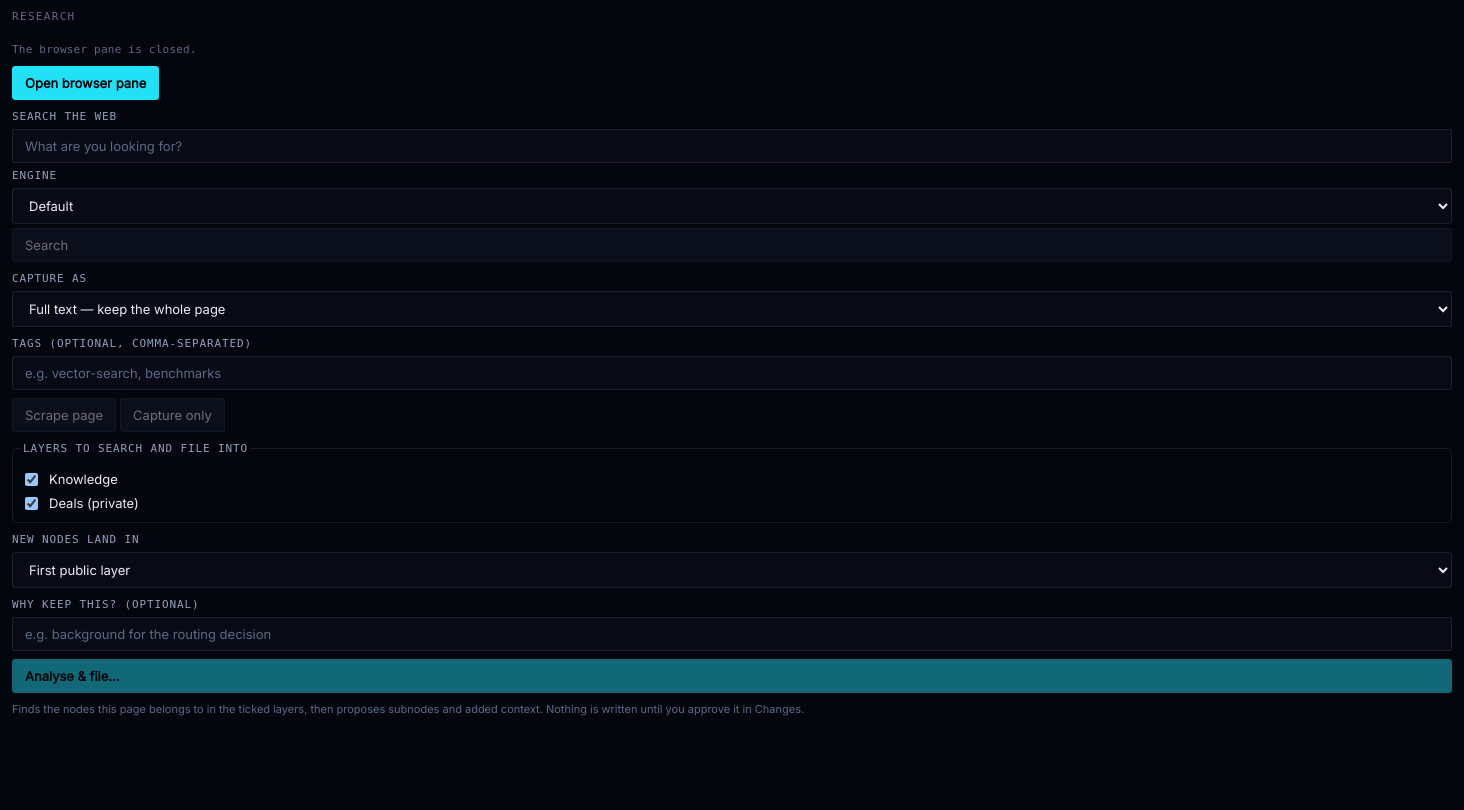
Test: BrowserPanel › digests the page instead of saving it whole when asked
Expected: the text "The browser pane is closed." is shown, [12,43,197,56]
Click the button "Open browser pane". click: (86, 83)
box: [12,66,159,100]
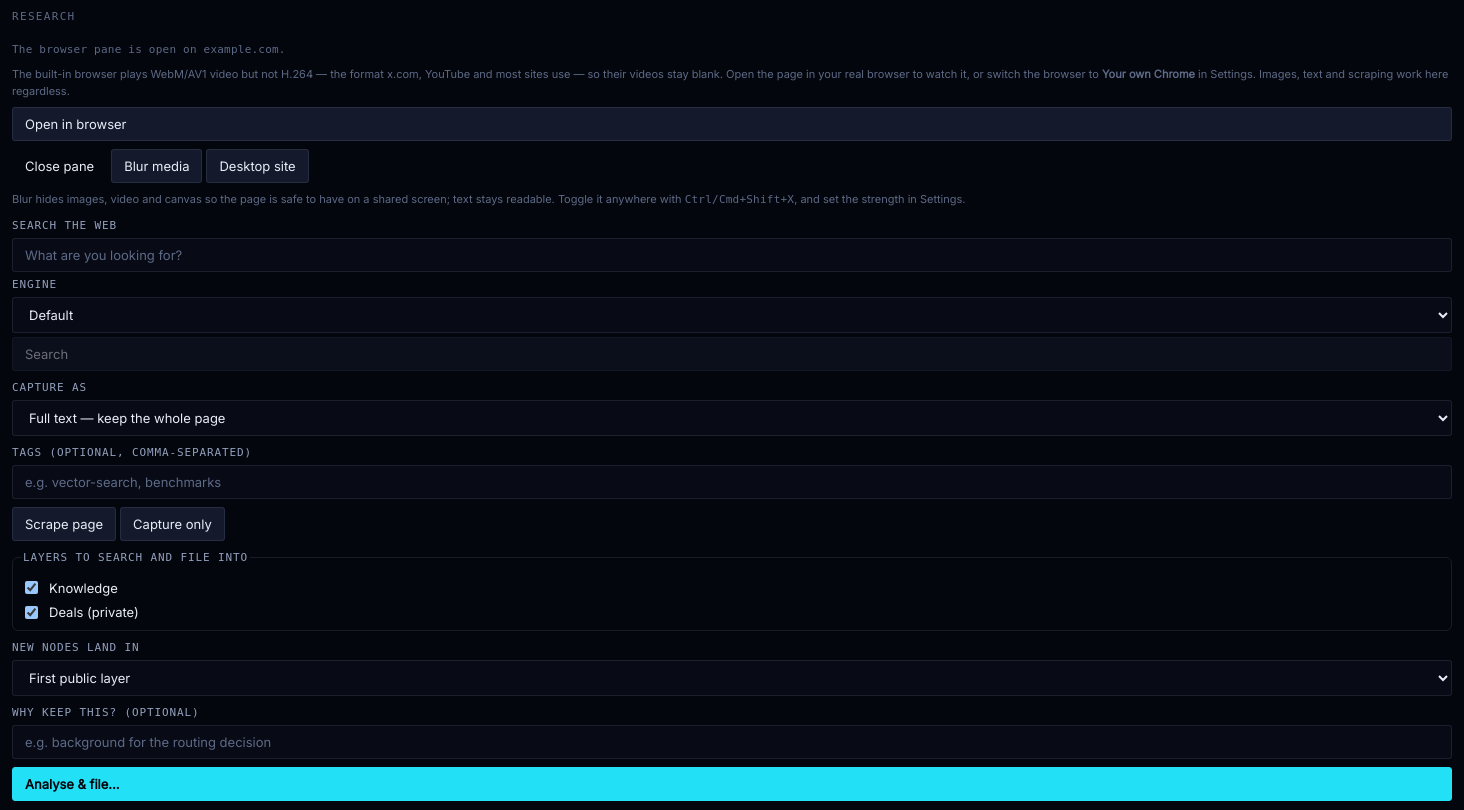
// Pick a brief, add a focus and tags — the "manage and sort" controls.
Select "Brief — AI summary + key points" in the dropdown named "Capture mode". click: (732, 418)
box: [12,400,1452,436]
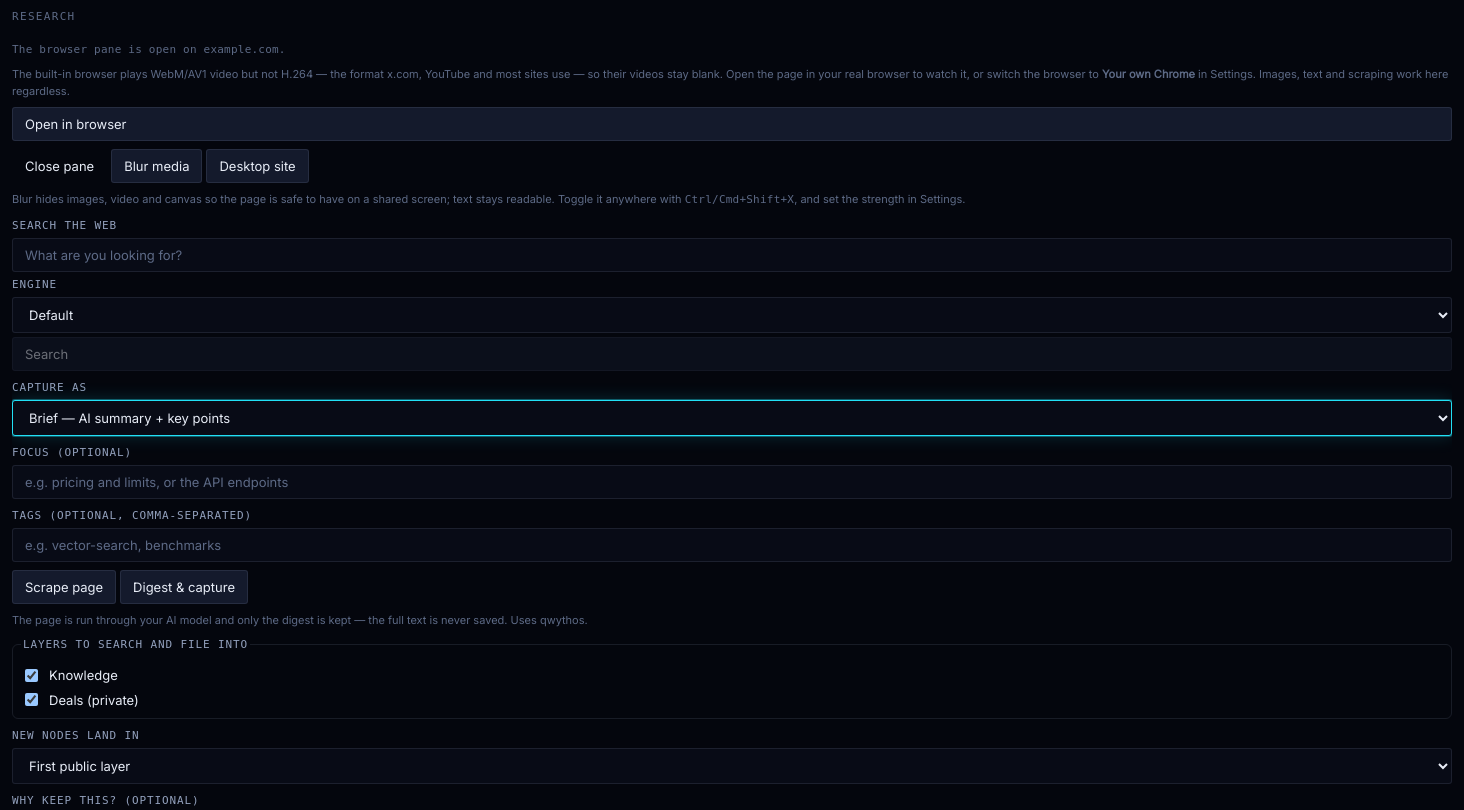
Type "pricing" into the field named "Digest focus". click: (732, 482)
box: [12,465,1452,499]
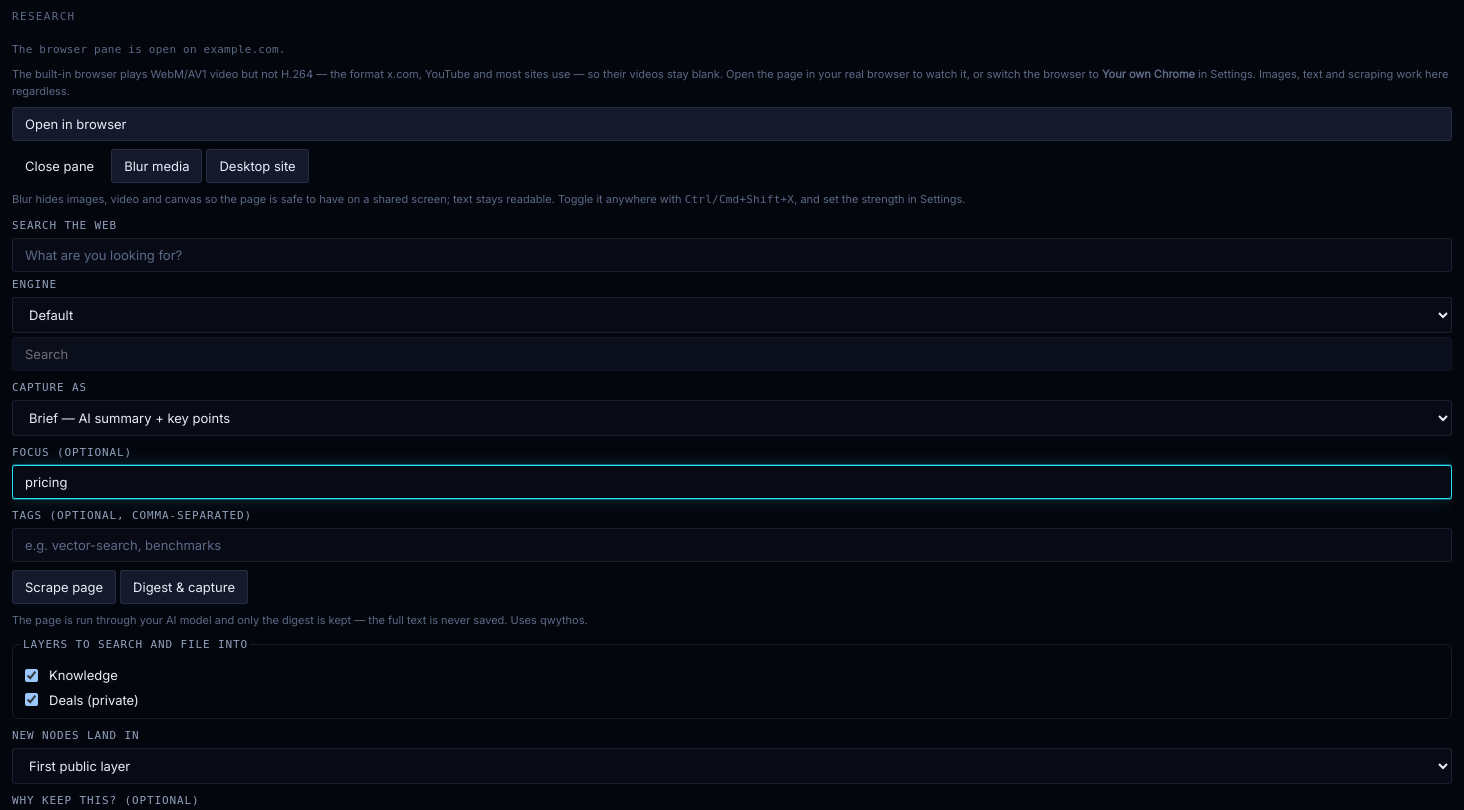
Type "vectors, pricing" into the field named "Capture tags". click: (732, 545)
box: [12,528,1452,562]
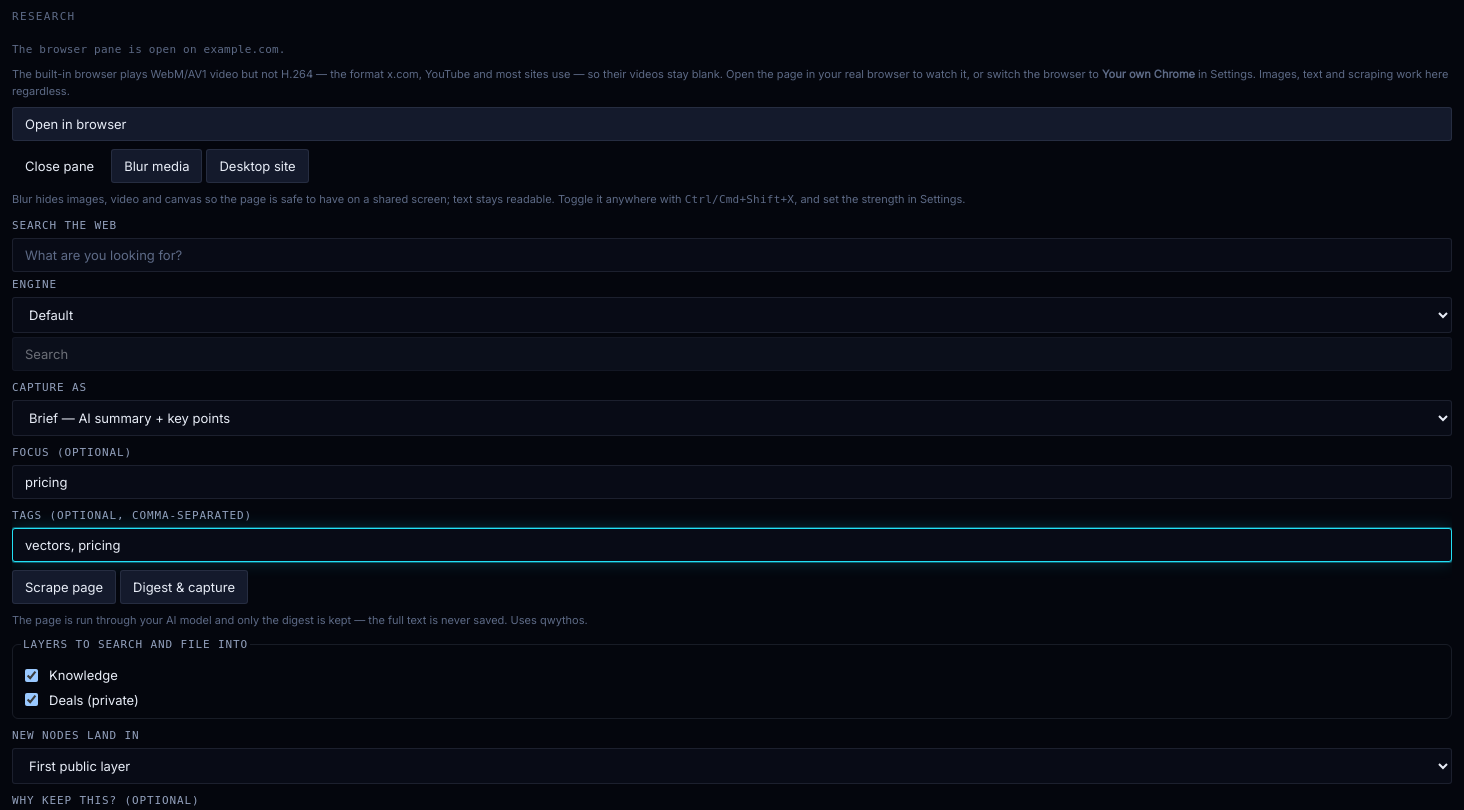
Click the button "Digest & capture". click: (184, 587)
box: [120,570,248,604]
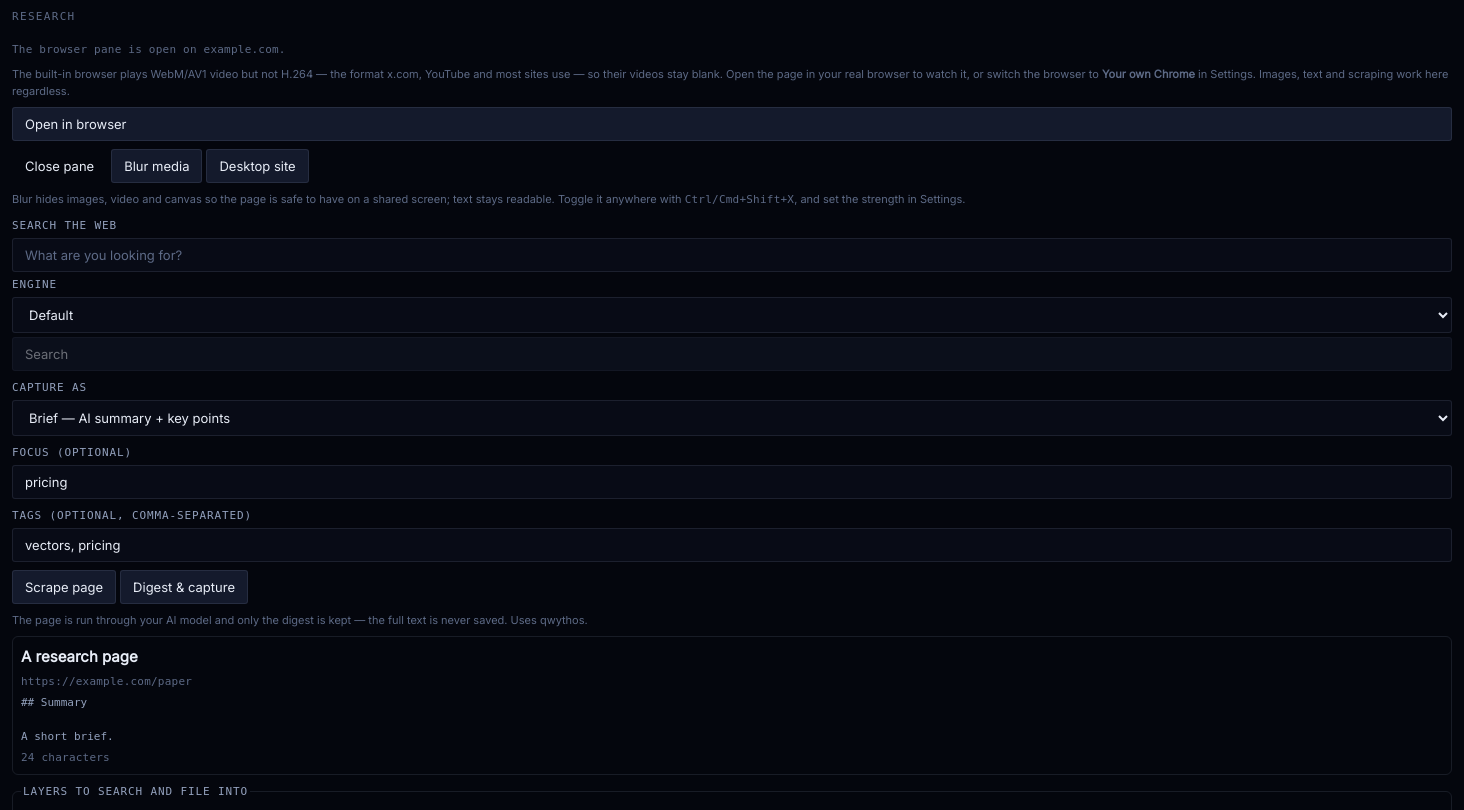
Expected: the text "## Summary A short brief." is shown, [21,696,114,743]
